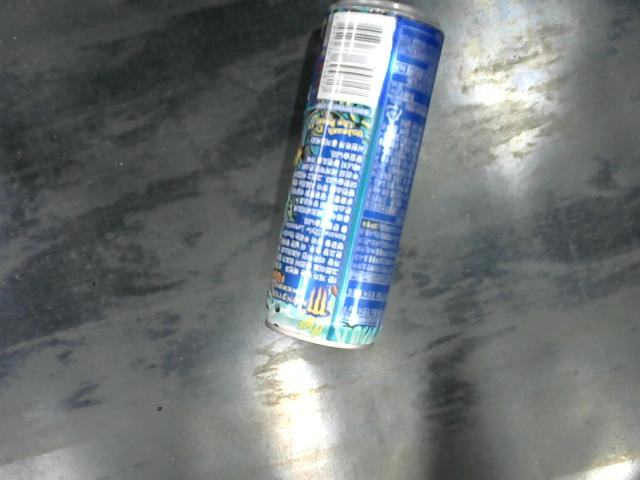can: (262, 0, 446, 351)
